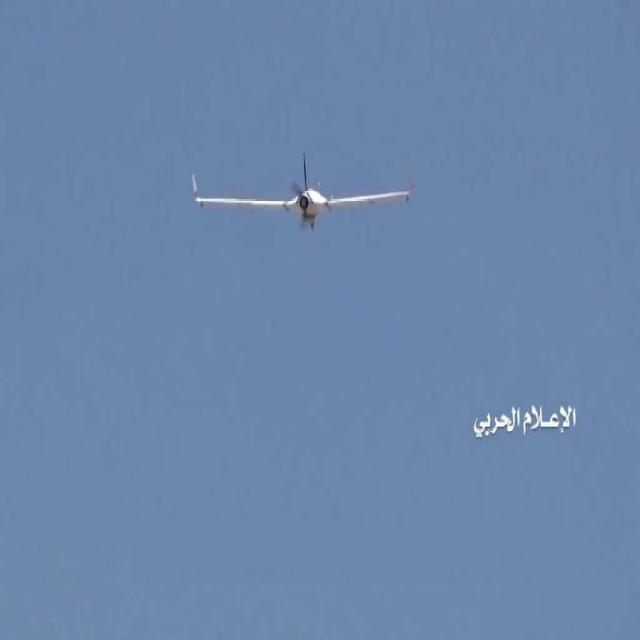iha: (166, 207, 414, 210)
